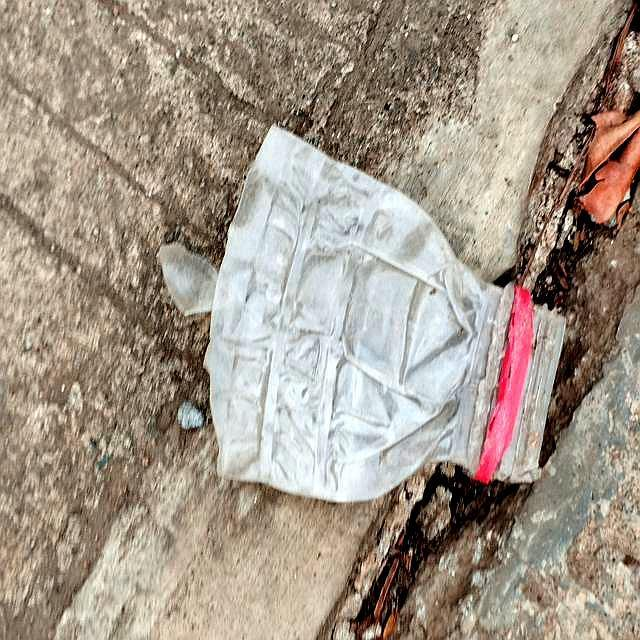Non-biodegradable: (160, 123, 568, 505)
